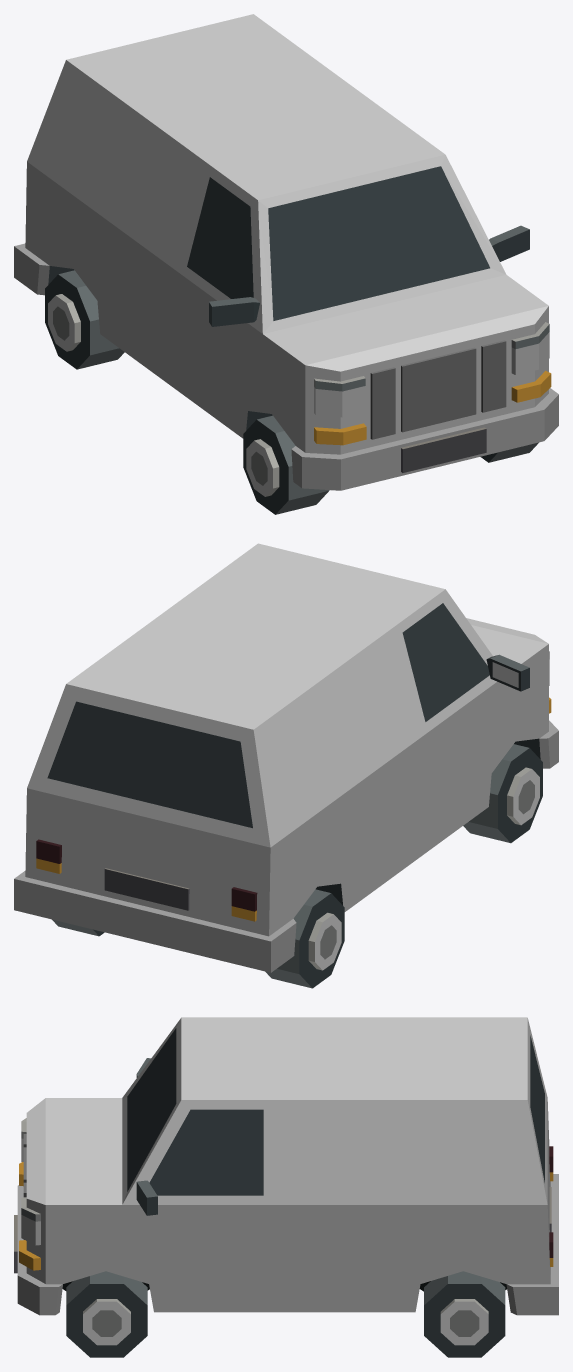
Rendered from TB_CITY_Car_Van_A.FBX.
3 views of the same model, one above another, from view 1: azimuth 30°, elevation 25°; view 2: azimuth 150°, elevation 25°; view 3: azimuth 270°, elevation 25° (orthographic). The views are drawn at different scales.
Parts seen in each view (by area): view 1: TB_CITY_Car_Van_A, TB_Car_Van_Wheel004, TB_Car_Van_Wheel003; view 2: TB_CITY_Car_Van_A, TB_Car_Van_Wheel003, TB_Car_Van_Wheel004; view 3: TB_CITY_Car_Van_A, TB_Car_Van_Wheel001, TB_Car_Van_Wheel002.
Part boxes in pixels (box(x1,y1,x2,y2)): TB_CITY_Car_Van_A: box(14, 14, 558, 490); TB_Car_Van_Wheel004: box(45, 270, 124, 369); TB_Car_Van_Wheel003: box(243, 415, 329, 514); TB_CITY_Car_Van_A: box(14, 543, 558, 972); TB_Car_Van_Wheel003: box(463, 744, 542, 843); TB_Car_Van_Wheel004: box(265, 889, 344, 988); TB_CITY_Car_Van_A: box(14, 1017, 558, 1315); TB_Car_Van_Wheel001: box(66, 1271, 147, 1357); TB_Car_Van_Wheel002: box(424, 1271, 505, 1357).
Size of the model in its own units: 4.12 by 3.34 by 6.8.
